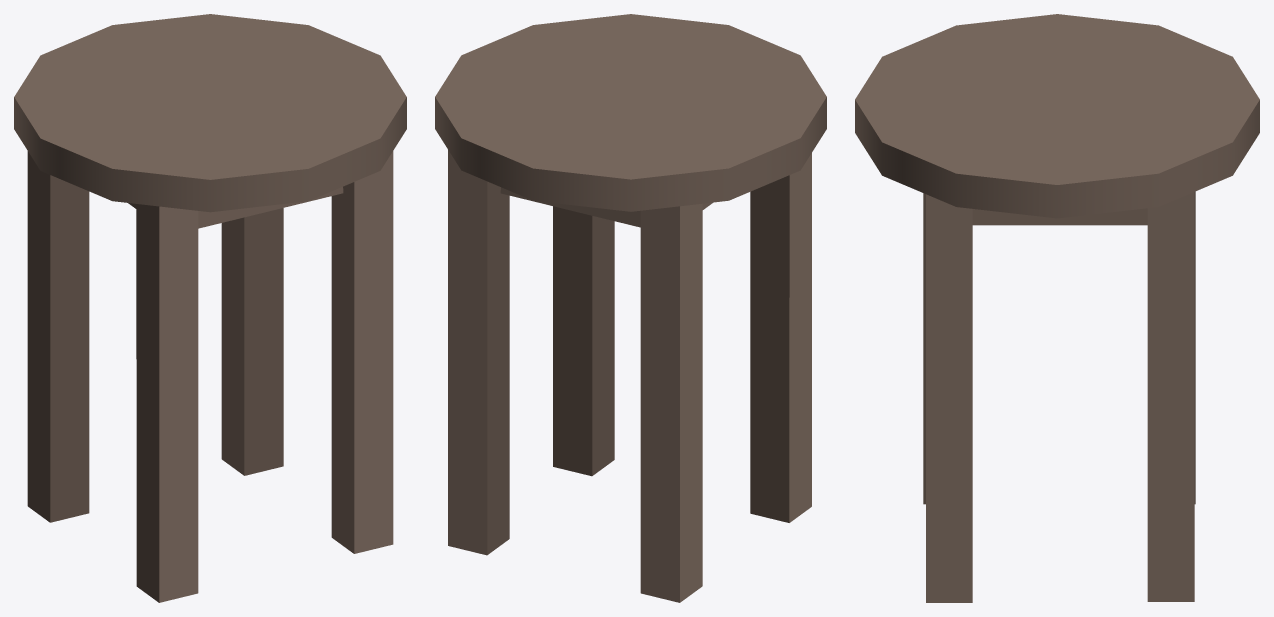
3 views of the same model, side by side, from view 1: azimuth 30°, elevation 25°; view 2: azimuth 150°, elevation 25°; view 3: azimuth 270°, elevation 25° (orthographic). The views are drawn at different scales.
Parts seen in each view (by area): view 1: G:\FFXIV-MapTools\exports\s1f3\bg\ffxiv\sea_s1\fld\s1f3\bgpa; view 2: G:\FFXIV-MapTools\exports\s1f3\bg\ffxiv\sea_s1\fld\s1f3\bgpa; view 3: G:\FFXIV-MapTools\exports\s1f3\bg\ffxiv\sea_s1\fld\s1f3\bgpa.
Part boxes in pixels (left/top/right/bottom): G:\FFXIV-MapTools\exports\s1f3\bg\ffxiv\sea_s1\fld\s1f3\bgpa: left=14, top=14, right=406, bottom=602; G:\FFXIV-MapTools\exports\s1f3\bg\ffxiv\sea_s1\fld\s1f3\bgpa: left=435, top=14, right=826, bottom=602; G:\FFXIV-MapTools\exports\s1f3\bg\ffxiv\sea_s1\fld\s1f3\bgpa: left=855, top=14, right=1259, bottom=602.
Size of the model in its own units: 0.4138 by 0.5 by 0.4138.
